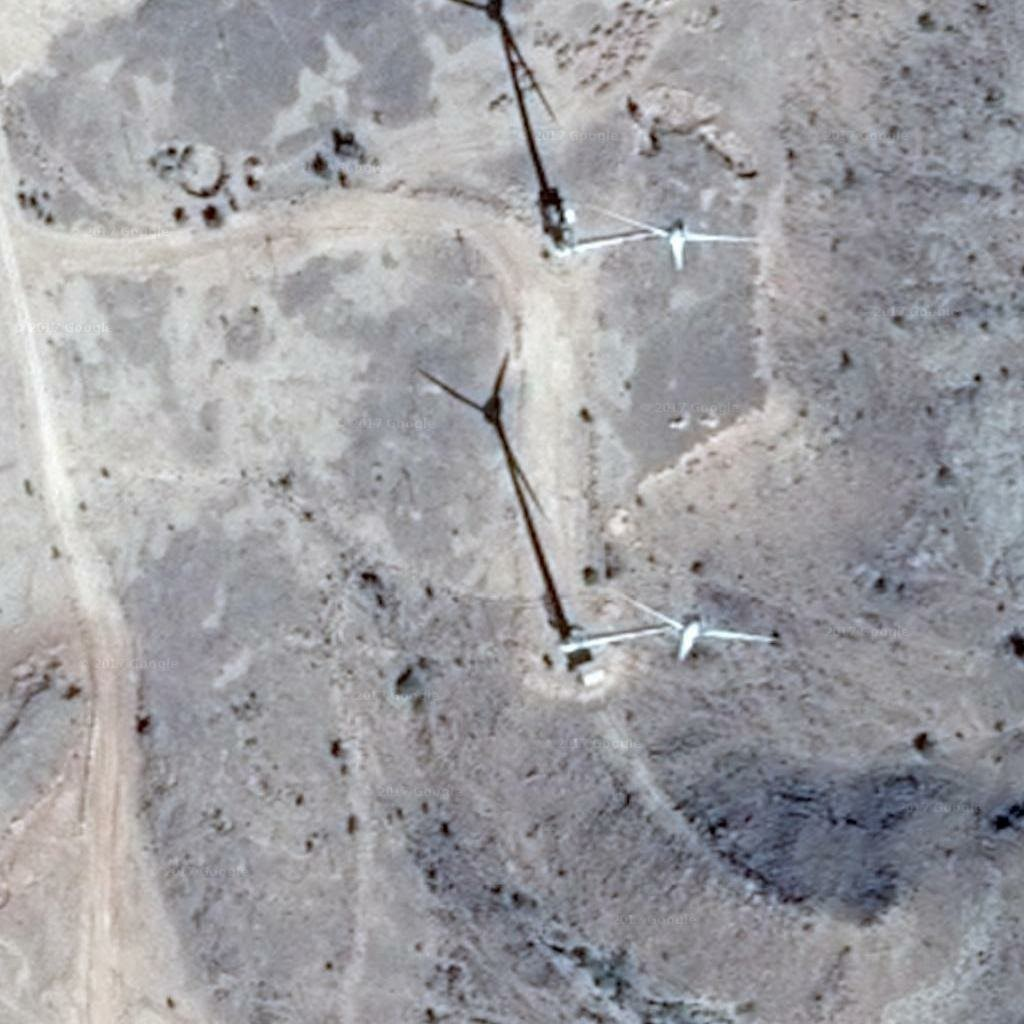Windmill: (407, 351, 594, 661)
